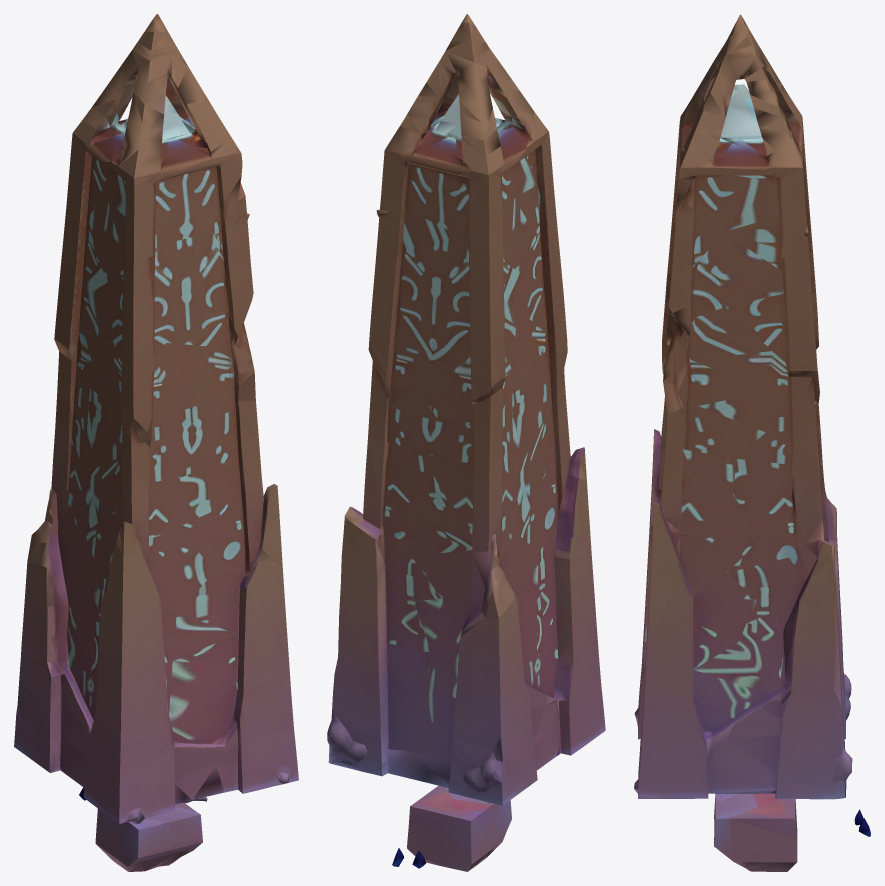
The model's file is obelisco.fbx.
The picture shows the model from 3 angles, left to right: view 1: azimuth 30°, elevation 25°; view 2: azimuth 150°, elevation 25°; view 3: azimuth 270°, elevation 25°; orthographic projection. The views are drawn at different scales.
Parts seen in each view (by area): view 1: tripo_node_0bf6a27e; view 2: tripo_node_0bf6a27e; view 3: tripo_node_0bf6a27e.
Boxes of the visible parts, bbox=[...] form: tripo_node_0bf6a27e: bbox=[14, 14, 298, 871]; tripo_node_0bf6a27e: bbox=[327, 14, 605, 871]; tripo_node_0bf6a27e: bbox=[634, 14, 870, 871].
Size of the model in its own units: 21.99 by 100 by 25.37.
1 material, 1 textured.
